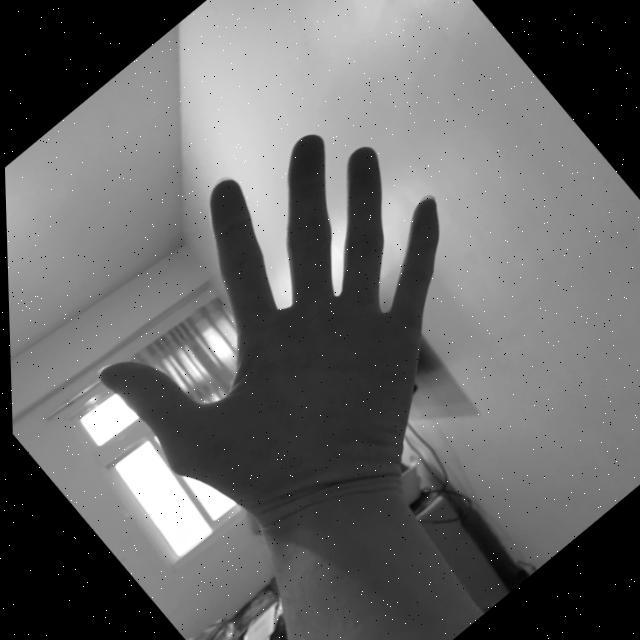no-gloves: (29, 76, 584, 614)
